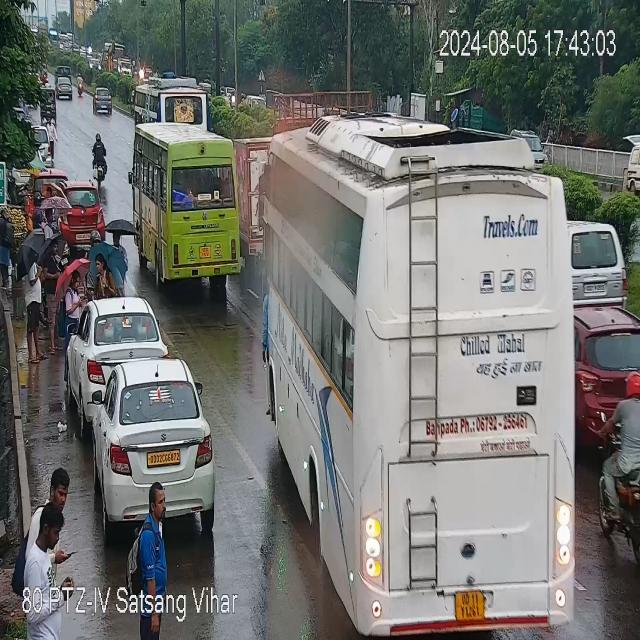2-wheelers: (599, 377, 640, 573), (94, 135, 109, 182), (76, 72, 86, 91)
bus: (274, 116, 581, 631), (128, 120, 241, 288), (135, 81, 217, 132)
car: (74, 356, 215, 524), (68, 297, 168, 401), (576, 314, 640, 433), (570, 222, 634, 312), (62, 184, 105, 243), (510, 118, 555, 169), (626, 130, 640, 199), (30, 124, 50, 168), (90, 87, 117, 115), (55, 77, 76, 103)
pedestrian: (20, 520, 79, 605), (124, 489, 171, 592), (33, 469, 78, 565), (45, 238, 63, 350), (27, 242, 43, 368), (66, 272, 80, 339), (93, 257, 114, 298), (111, 224, 128, 269), (46, 120, 59, 158), (45, 208, 58, 240), (33, 188, 43, 208), (45, 187, 54, 202)
